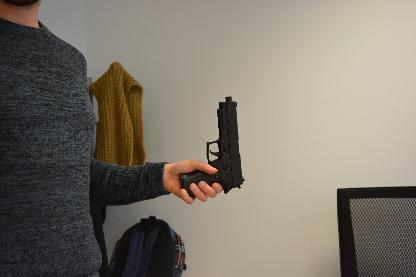pistol: (178, 95, 244, 198)
